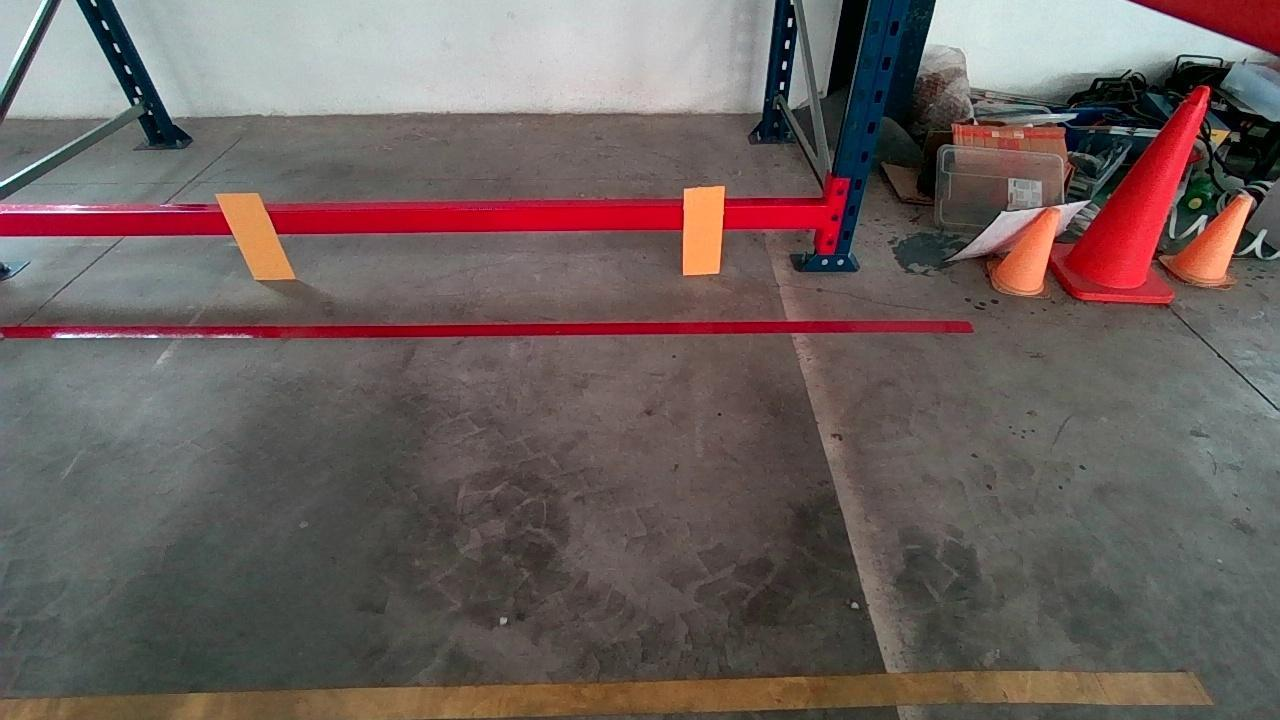h_rack: (9, 193, 821, 238)
orange_strip: (216, 192, 295, 279), (682, 185, 724, 272)
red_line: (22, 313, 953, 342)
yellow_line: (0, 662, 1211, 720)
